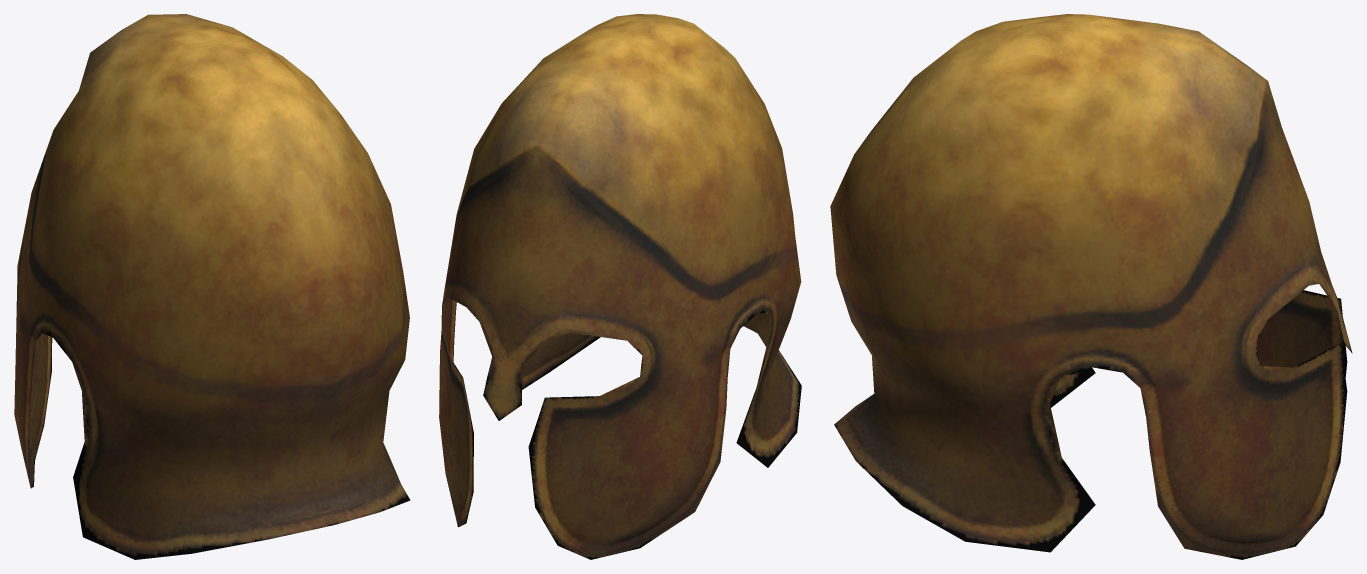
File: helm_hele_chalcidean_b2.glb
3 views of the same model, side by side, from view 1: azimuth 30°, elevation 25°; view 2: azimuth 150°, elevation 25°; view 3: azimuth 270°, elevation 25° (orthographic). The views are drawn at different scales.
Visible parts, largest first — view 1: helm_hele_chalcidean_b2_part0; view 2: helm_hele_chalcidean_b2_part0; view 3: helm_hele_chalcidean_b2_part0.
Boxes of the visible parts, bbox=[...] form: helm_hele_chalcidean_b2_part0: bbox=[14, 14, 410, 559]; helm_hele_chalcidean_b2_part0: bbox=[439, 14, 801, 559]; helm_hele_chalcidean_b2_part0: bbox=[830, 14, 1352, 559].
Size of the model in its own units: 0.4345 by 0.6406 by 0.6246.
1 material, 1 textured.
